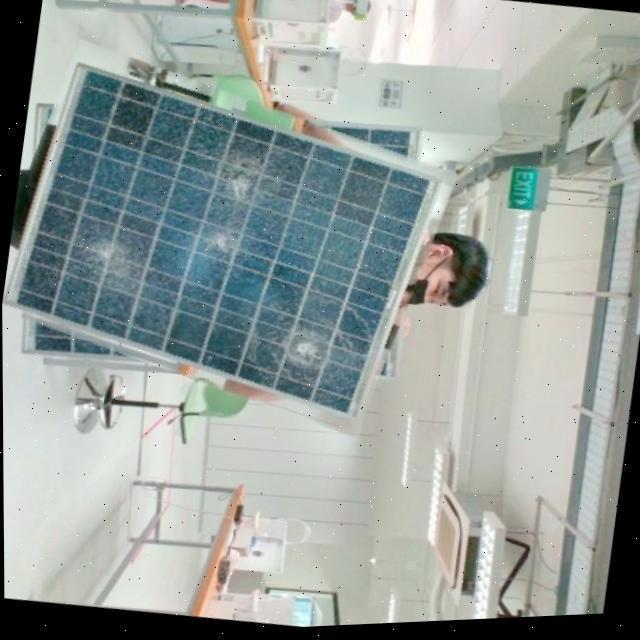Anomaly Solar Panel: (5, 62, 440, 422)
Structural Damage: (181, 147, 293, 274), (251, 301, 364, 393), (53, 223, 159, 306)
